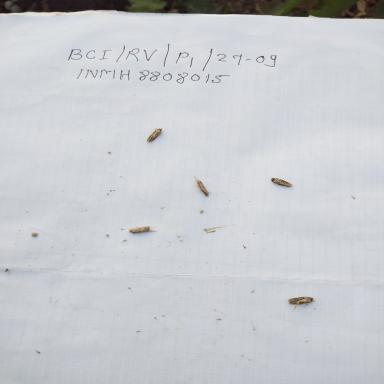pbw: (132, 118, 184, 154), (179, 171, 231, 202), (262, 168, 300, 204), (113, 219, 163, 243), (282, 296, 318, 312)
